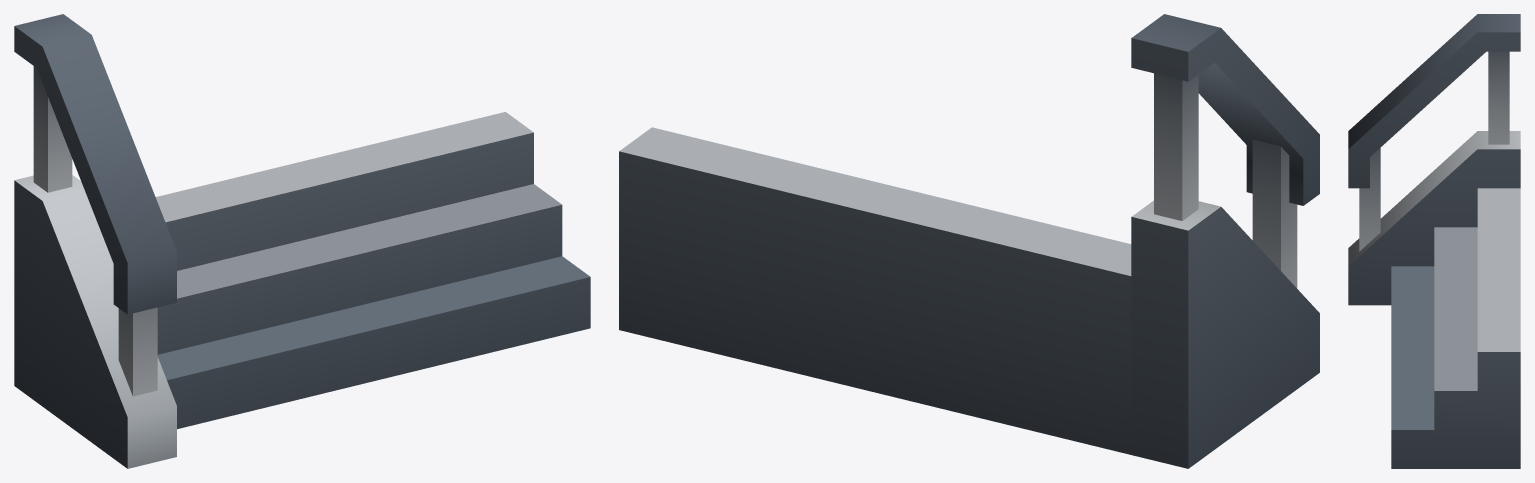
The model's file is stairs-small-edge-handrail.glb.
3 views of the same model, side by side, from view 1: azimuth 30°, elevation 25°; view 2: azimuth 150°, elevation 25°; view 3: azimuth 270°, elevation 25° (orthographic). The views are drawn at different scales.
Visible parts, largest first — view 1: stairs-small-edge-handrail; view 2: stairs-small-edge-handrail; view 3: stairs-small-edge-handrail.
Boxes of the visible parts, x1,y1,x2,y2 form: stairs-small-edge-handrail: [14, 14, 590, 468]; stairs-small-edge-handrail: [619, 14, 1319, 468]; stairs-small-edge-handrail: [1348, 14, 1520, 468].
Bounding box in the file's own units: 1 × 0.7 × 0.3999.
